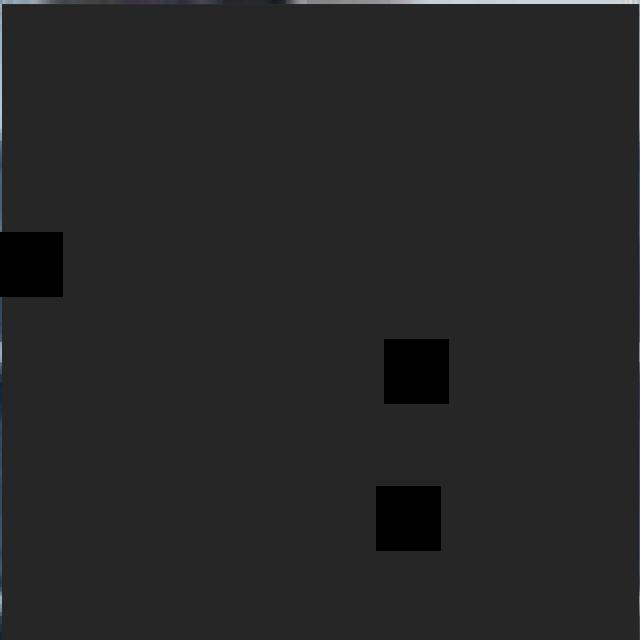smoke: (2, 4, 640, 640)
